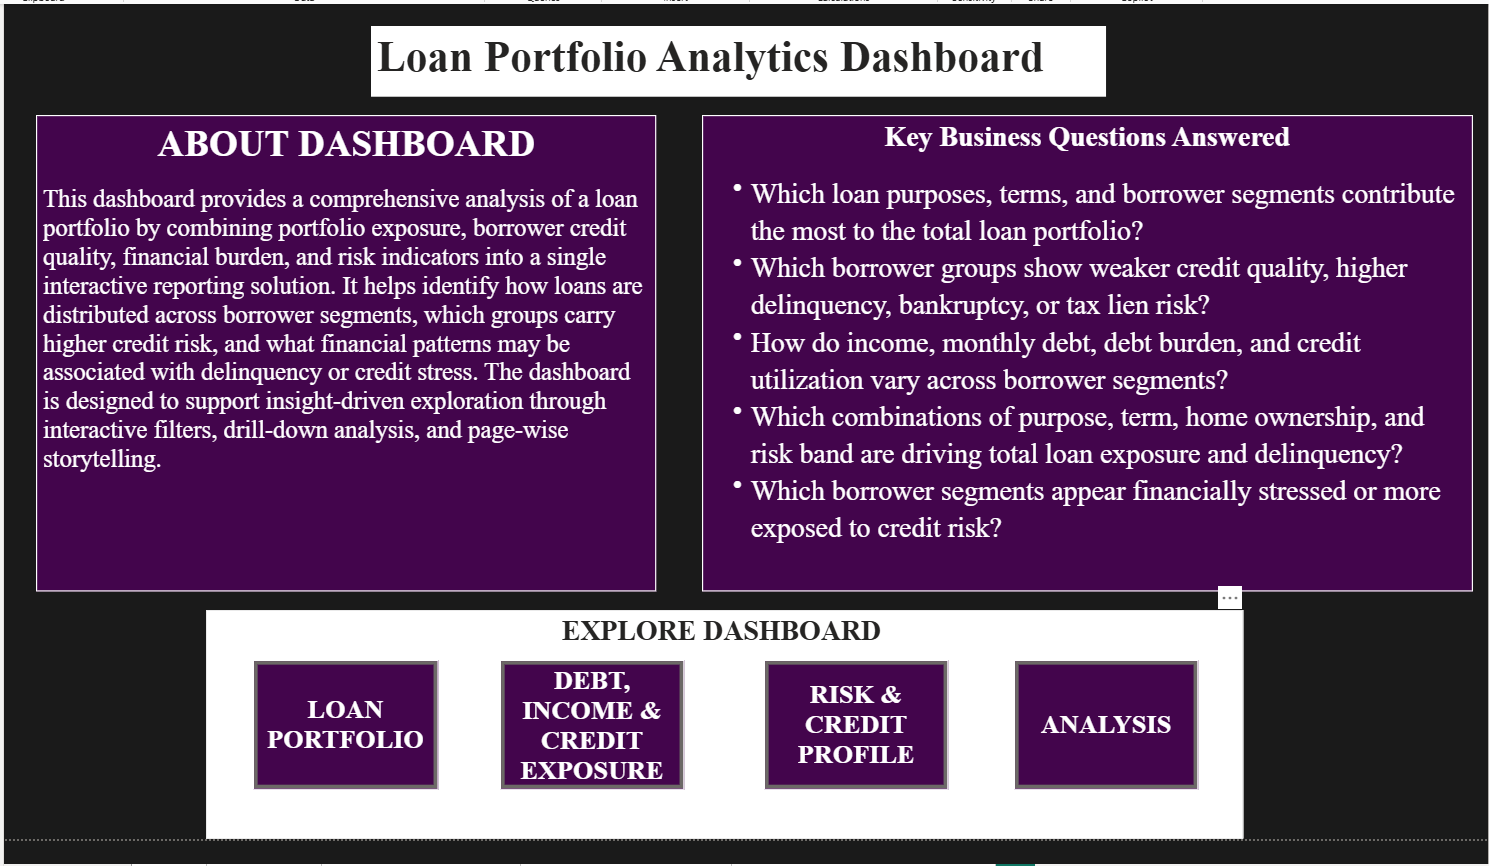

The dashboard page shown, as its layout file describes it:
{"tool":"powerbi","page":{"name":"About ","canvas":[1280,720],"ordinal":0},"visuals":[{"type":"textbox","box":[316.9,18.6,633.8,60.8],"z":0},{"type":"textbox","box":[27.2,95.9,535.1,410.7],"z":1000},{"type":"textbox","box":[602.4,95.9,664.6,410.7],"z":2000},{"type":"textbox","box":[174.1,523.1,894.9,196.9],"z":3000},{"type":"actionButton","box":[214.6,566.2,159.7,111.5],"z":4000},{"type":"actionButton","box":[655.8,566.2,158.9,111.5],"z":5000},{"type":"actionButton","box":[871.3,566.2,158.9,111.5],"z":6000},{"type":"actionButton","box":[427.6,566.2,158.9,111.5],"z":7000}]}

Visuals, with their boxes on the page's 1280x720 design canvas (x1, y1, x2, y2). These are canvas units, not pixel positions in the 1489x866 screenshot, which may show the page scaled, cropped or inside an application window:
textbox: <region>317, 19, 951, 79</region>
textbox: <region>27, 96, 562, 507</region>
textbox: <region>602, 96, 1267, 507</region>
textbox: <region>174, 523, 1069, 720</region>
actionButton: <region>215, 566, 374, 678</region>
actionButton: <region>656, 566, 815, 678</region>
actionButton: <region>871, 566, 1030, 678</region>
actionButton: <region>428, 566, 586, 678</region>
